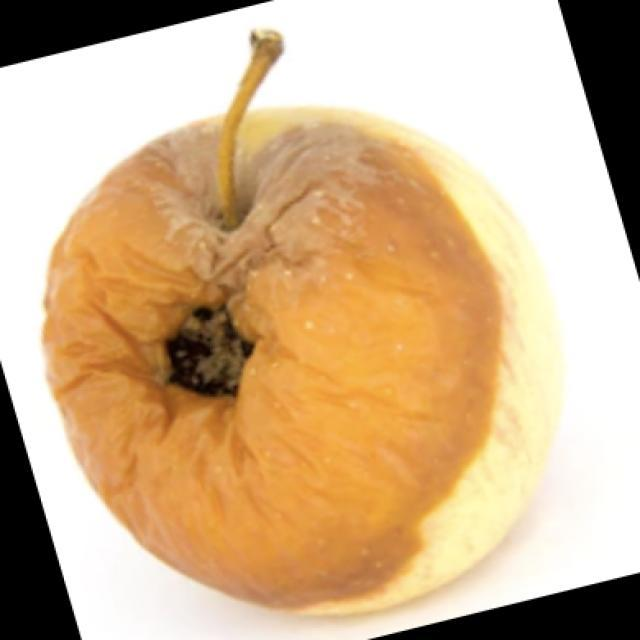Rotten: (40, 107, 552, 605)
